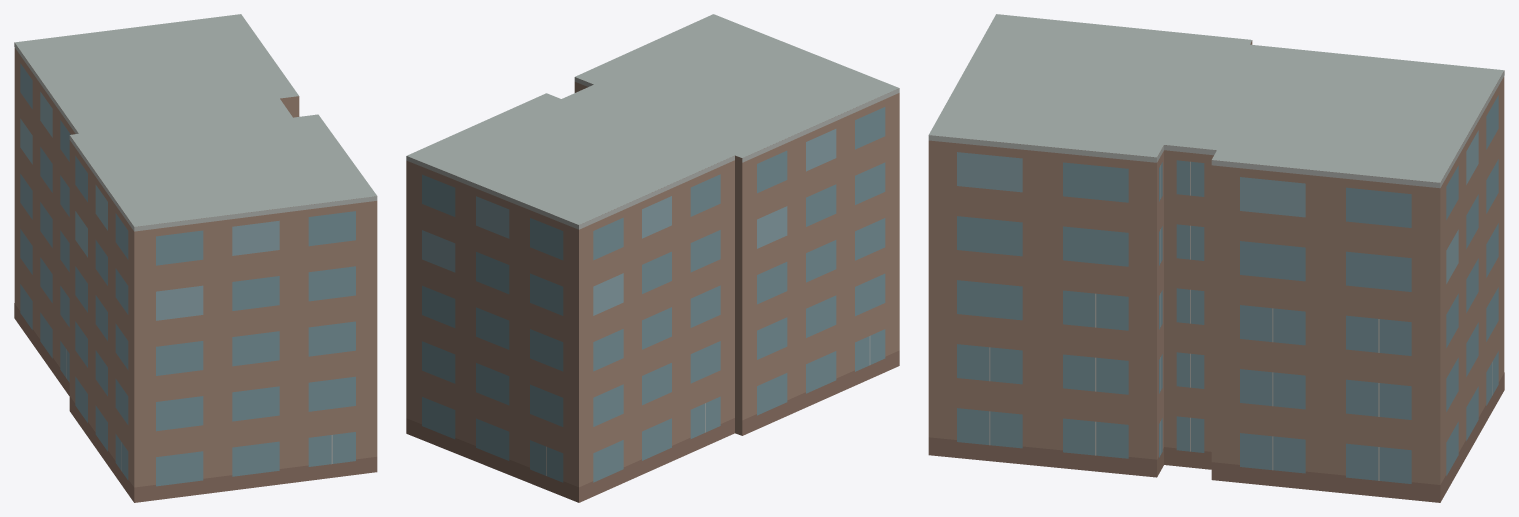
Rendered from survey-upis-32728323.glb.
The picture shows the model from 3 angles, left to right: view 1: azimuth 30°, elevation 25°; view 2: azimuth 150°, elevation 25°; view 3: azimuth 270°, elevation 25°; orthographic projection. The views are drawn at different scales.
Parts seen in each view (by area): view 1: survey-upis-32728323.tmp; view 2: survey-upis-32728323.tmp; view 3: survey-upis-32728323.tmp.
Part boxes in pixels (bbox=[...]): survey-upis-32728323.tmp: bbox=[14, 14, 377, 502]; survey-upis-32728323.tmp: bbox=[406, 14, 899, 502]; survey-upis-32728323.tmp: bbox=[928, 14, 1504, 502].
Size of the model in its own units: 16.42 by 14.5 by 23.65.
